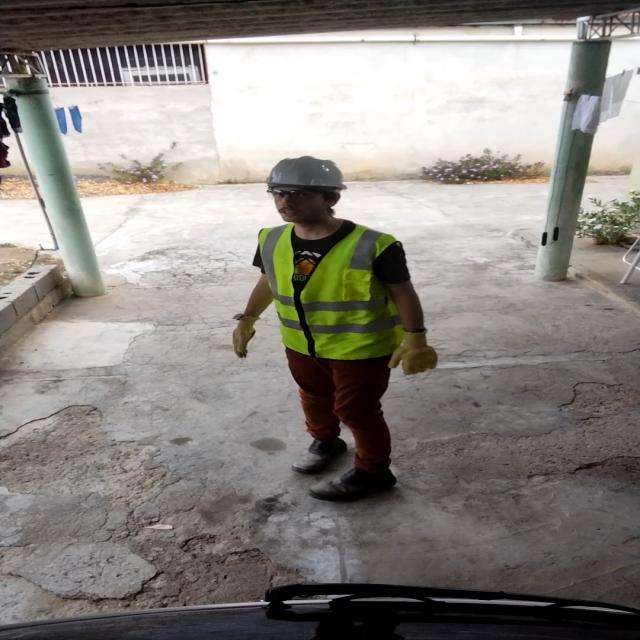glove: (379, 328, 446, 373), (230, 310, 270, 358)
helmet: (256, 155, 357, 204)
pants: (276, 350, 398, 471)
vest: (261, 226, 410, 360)
